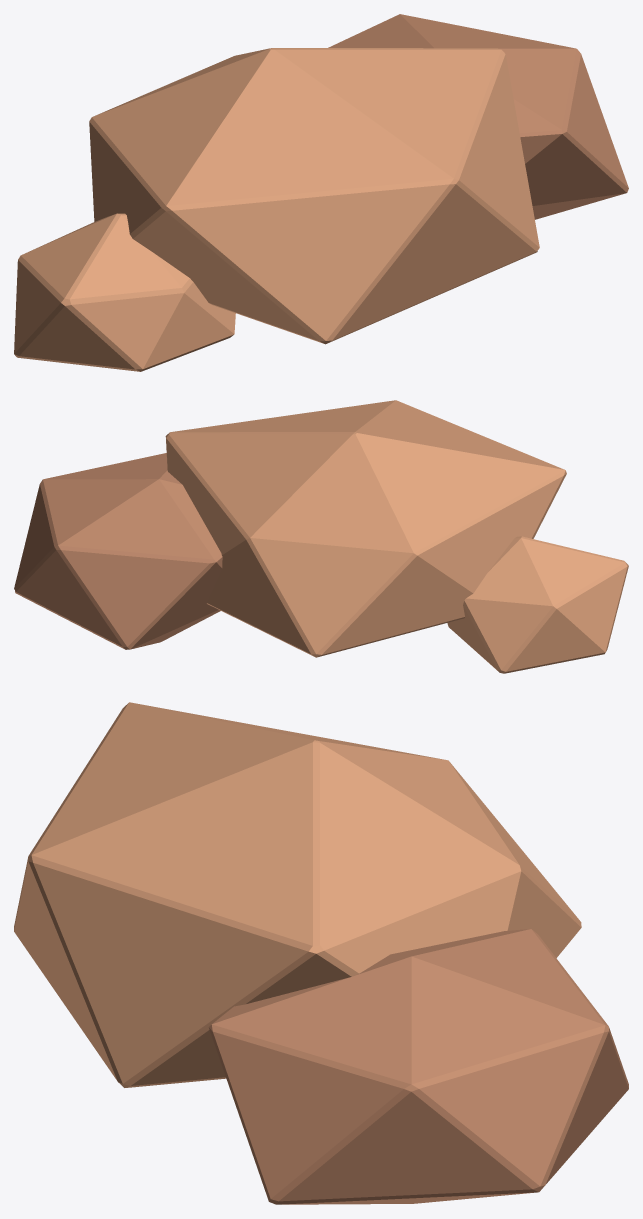
3 views of the same model, one above another, from view 1: azimuth 30°, elevation 25°; view 2: azimuth 150°, elevation 25°; view 3: azimuth 270°, elevation 25° (orthographic). The views are drawn at different scales.
Visible parts, largest first — view 1: MesaRock; view 2: MesaRock; view 3: MesaRock.
Part boxes in pixels (bbox=[...]): MesaRock: bbox=[14, 14, 628, 371]; MesaRock: bbox=[14, 400, 628, 673]; MesaRock: bbox=[14, 702, 628, 1204].
Bounding box in the file's own units: 2.81 × 1.19 × 1.94.
